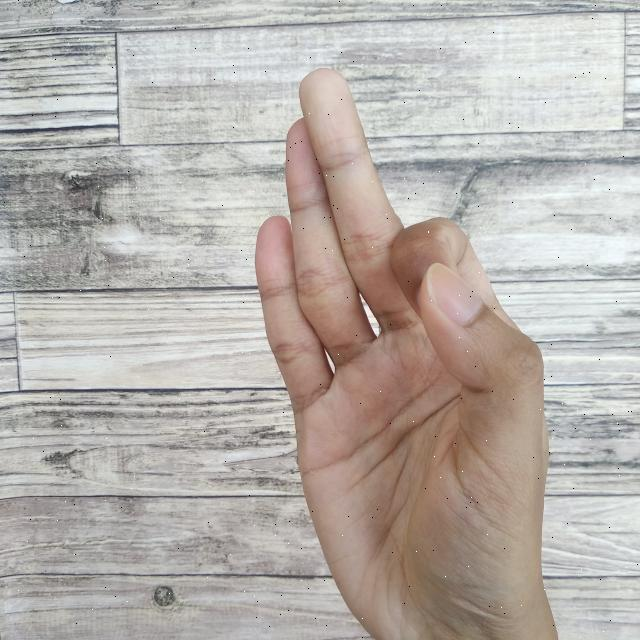F: (253, 66, 560, 640)
